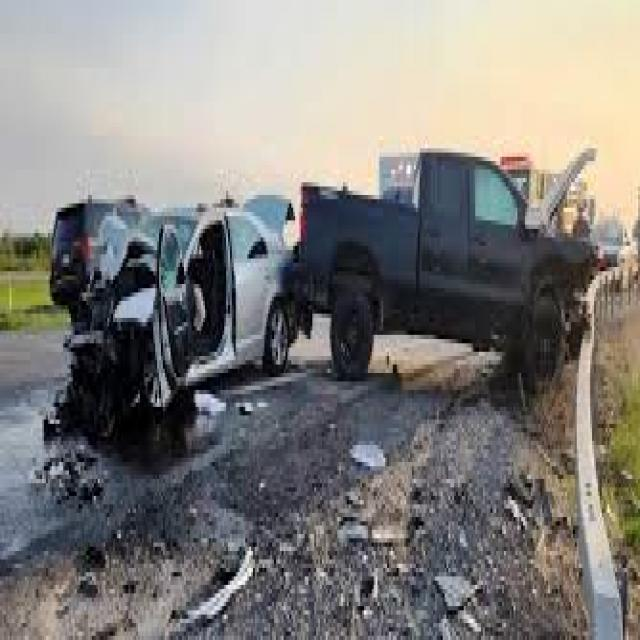accident: (94, 158, 597, 436)
